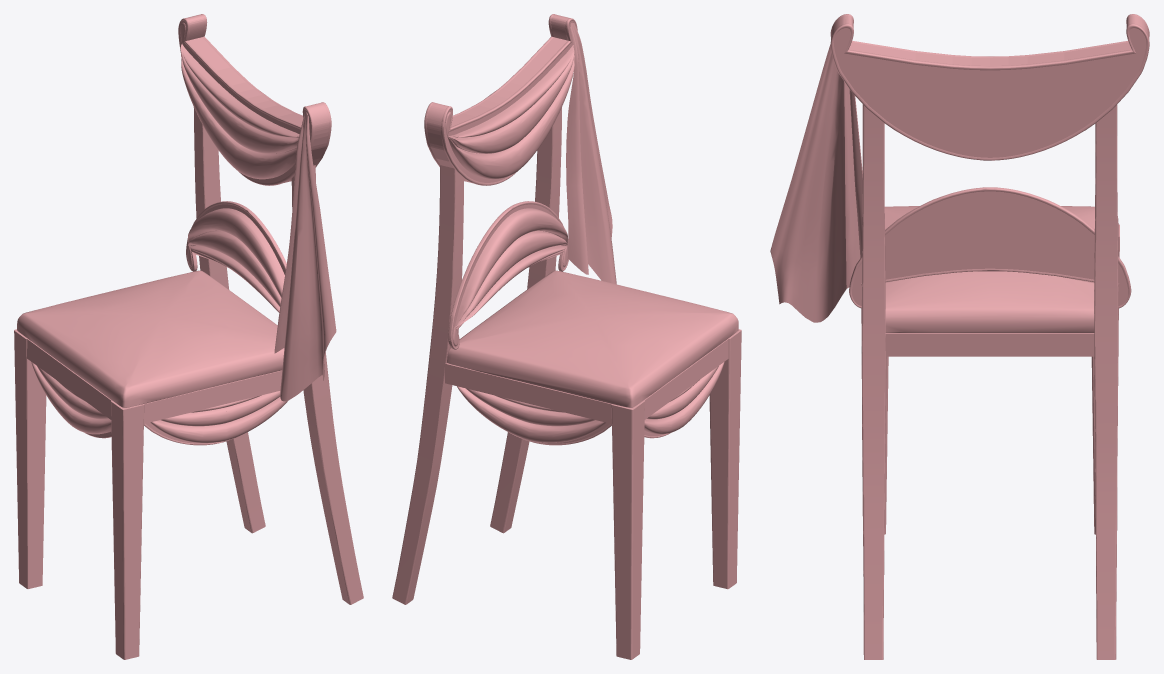
The picture shows the model from 3 angles, left to right: view 1: azimuth 30°, elevation 25°; view 2: azimuth 150°, elevation 25°; view 3: azimuth 270°, elevation 25°; orthographic projection. The views are drawn at different scales.
Parts seen in each view (by area): view 1: Object_3, Object_2; view 2: Object_3, Object_2; view 3: Object_2, Object_3.
Boxes of the visible parts, x1,y1,x2,y2 form: Object_3: (17,44,336,442); Object_2: (14,14,363,659); Object_3: (447,23,738,442); Object_2: (392,14,741,659); Object_2: (830,14,1149,659); Object_3: (770,44,1118,332).
Bounding box in the file's own units: 113 × 230 × 129.
